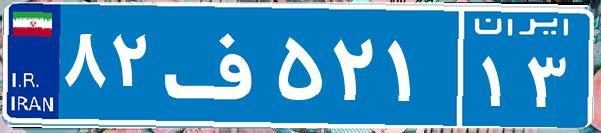1: (385, 28, 445, 110), (475, 38, 525, 113)
2: (330, 28, 385, 110), (110, 28, 158, 105)
3: (525, 38, 570, 115)
5: (273, 28, 330, 110)
8: (57, 26, 110, 107)
ف: (158, 15, 273, 115)
